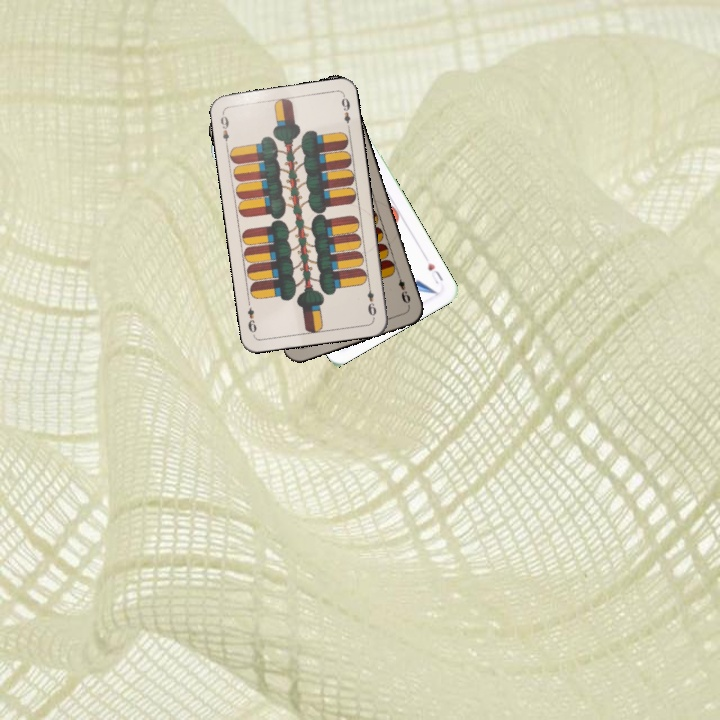E9: (393, 269, 413, 308), (216, 109, 232, 150), (363, 279, 379, 318)
HU: (424, 258, 446, 287)
